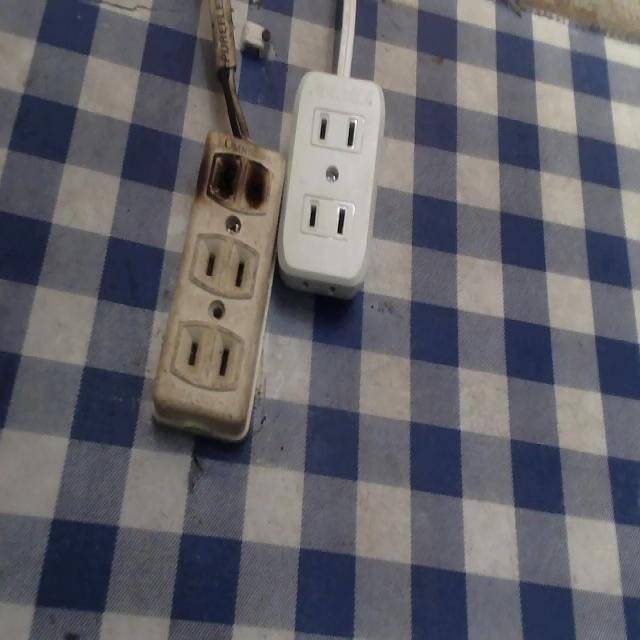-: (201, 128, 271, 215)
